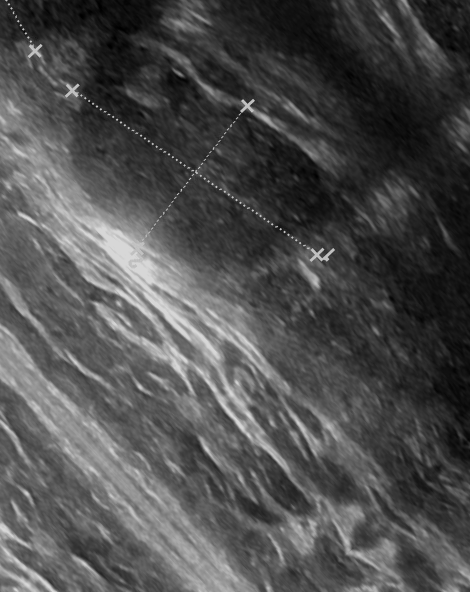Benign: (71, 103, 325, 246)
